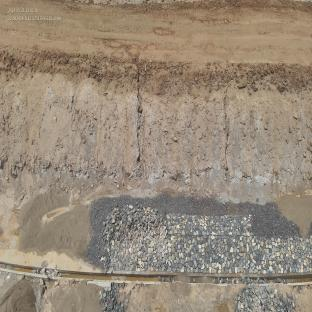rock_toe: (0, 204, 312, 271), (230, 287, 306, 312), (96, 285, 143, 312)
toe_drain: (0, 259, 312, 288)
